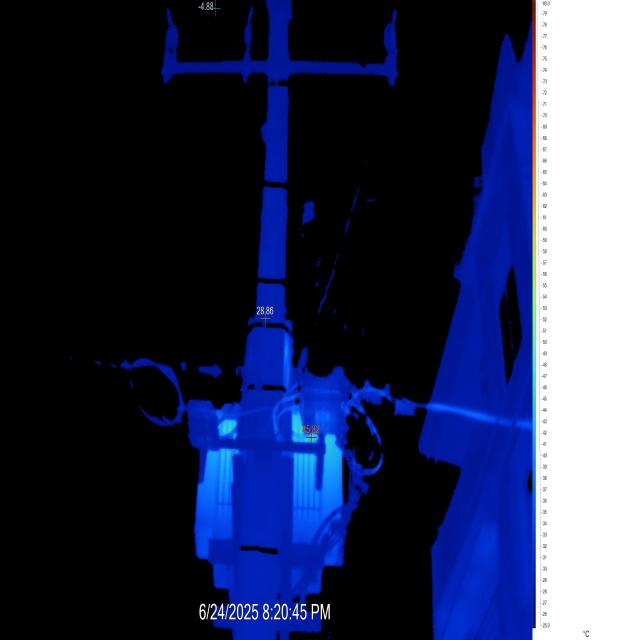Transformer: (95, 5, 534, 636)
